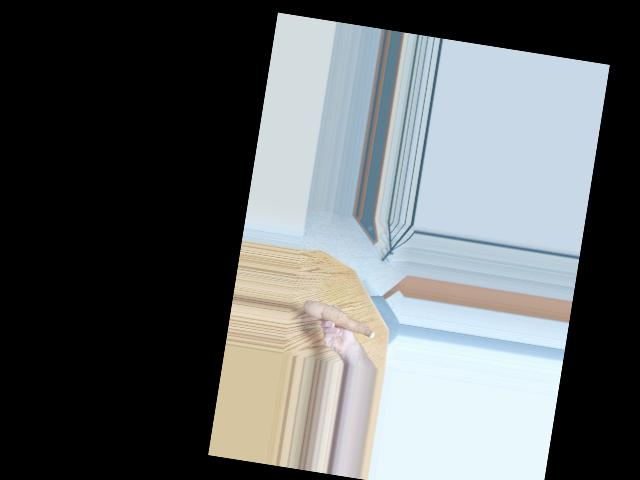sweet_potato: (303, 295, 377, 339)
